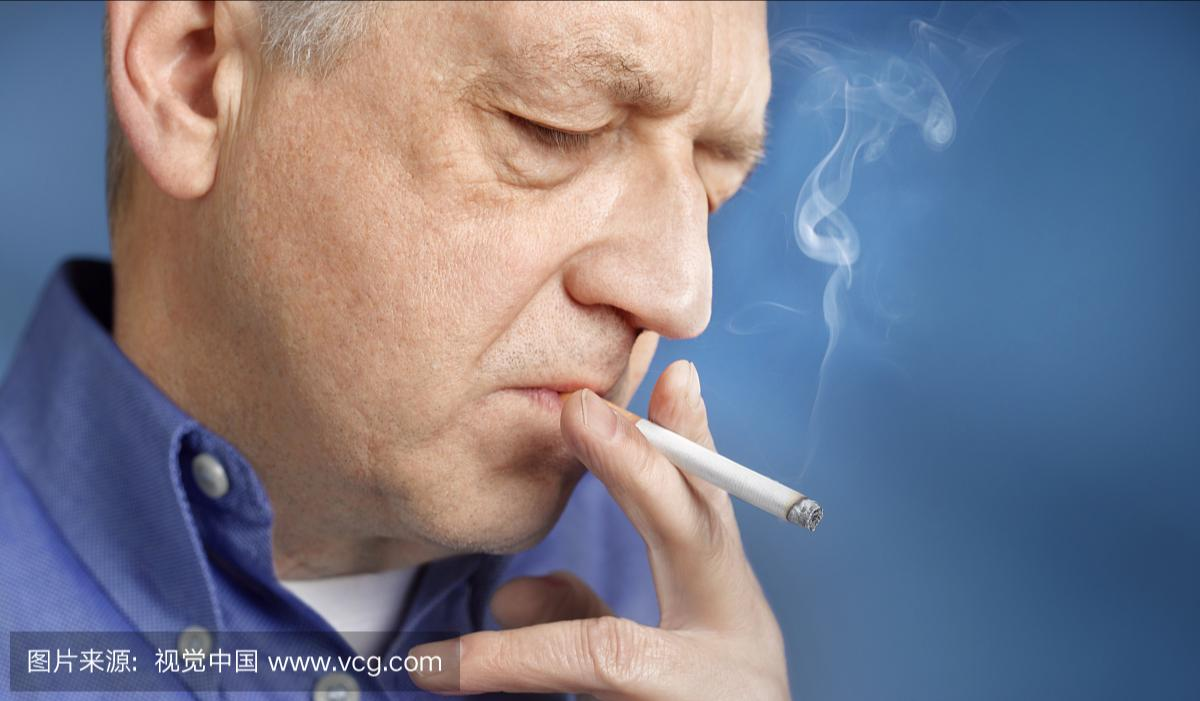Cigarette: (588, 391, 823, 531)
Smoke: (744, 18, 976, 376)
